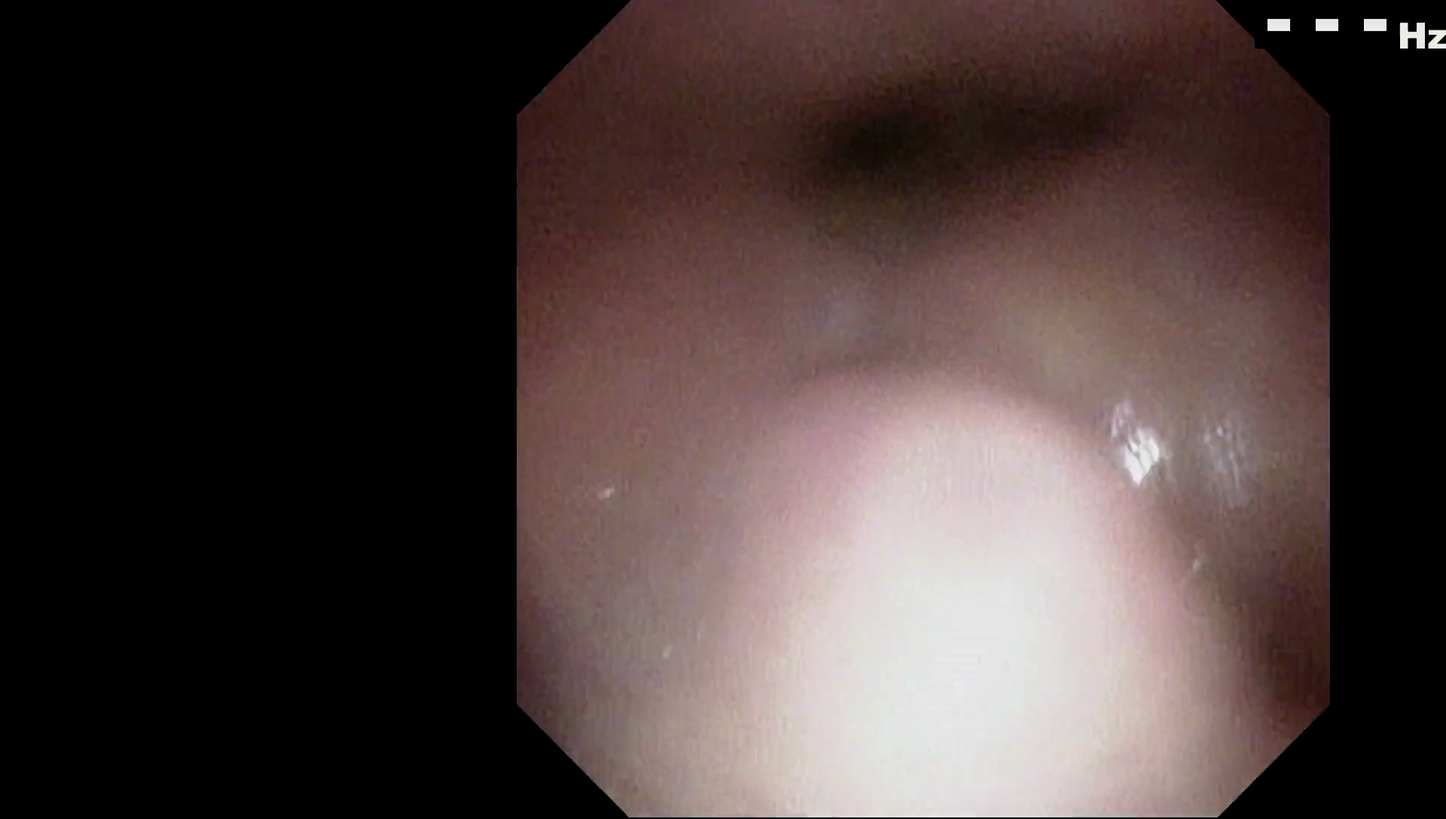close_wall: (657, 345, 1227, 819)
next: (764, 77, 1020, 208)
